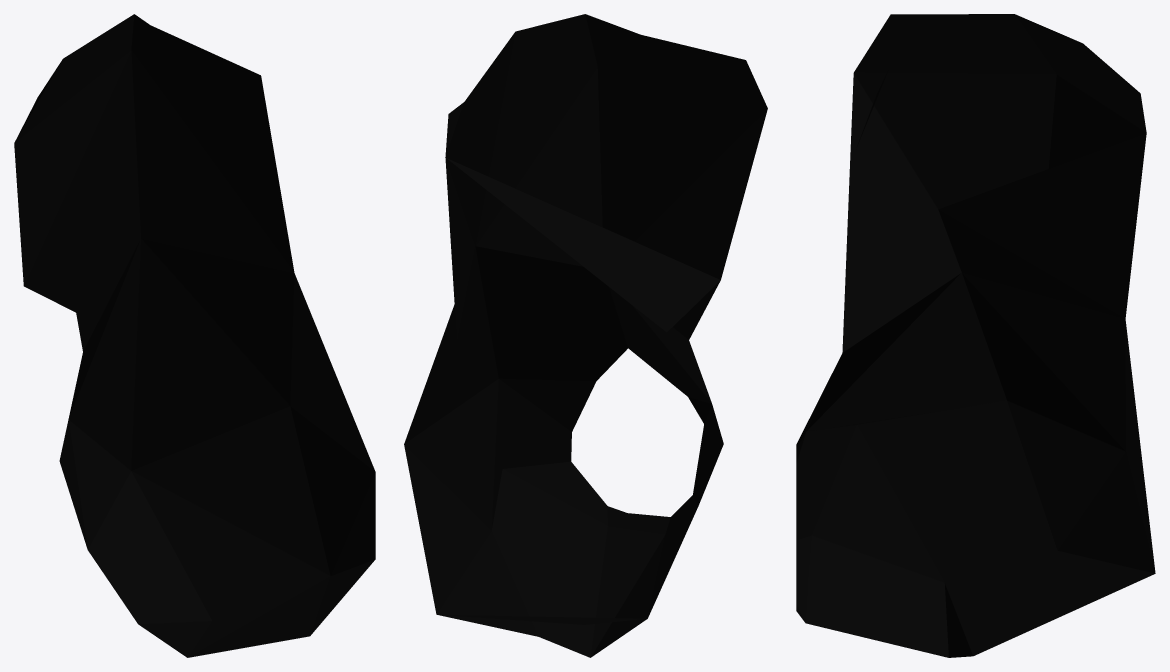
The picture shows the model from 3 angles, left to right: view 1: azimuth 30°, elevation 25°; view 2: azimuth 150°, elevation 25°; view 3: azimuth 270°, elevation 25°; orthographic projection. The views are drawn at different scales.
Bounding box in the file's own units: 0.2604 × 0.5426 × 0.3022.
Materials: 1 (1 with a texture image).
